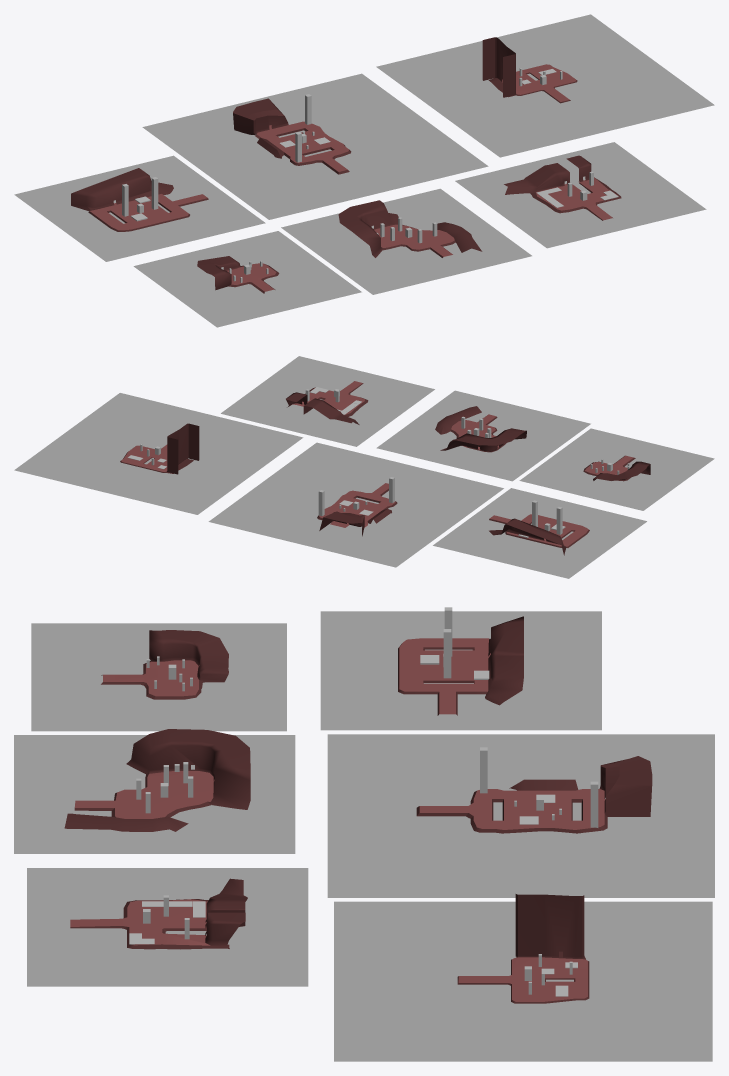
Rendered from NIVEL 1 ESCENARIOS.fbx.
The picture shows the model from 3 angles, top to bottom: view 1: azimuth 30°, elevation 25°; view 2: azimuth 150°, elevation 25°; view 3: azimuth 270°, elevation 25°; orthographic projection. The views are drawn at different scales.
Visible parts, largest first — view 1: Lago5, Lago4, Lago2, Lago1, Lago, Walls (×6), Lago3, Floor (×6); view 2: Lago4, Lago5, Lago2, Lago3, Lago1, Lago, Walls (×6), Floor (×6); view 3: Lago4, Lago5, Lago2, Lago3, Floor (×6), Walls (×6), Lago, Lago1.
Boxes of the visible parts, x1,y1,x2,y2 form: Lago5: (376,14,714,157); Lago4: (142,73,488,219); Lago2: (455,142,706,248); Lago1: (281,188,531,294); Lago: (133,231,361,327); Walls (×6): (71,37,591,290); Lago3: (14,155,265,261); Floor (×6): (88,64,621,293); Lago4: (208,442,503,567); Lago5: (14,393,303,514); Lago2: (221,356,434,446); Lago3: (433,488,646,578); Lago1: (376,390,590,481); Lago: (519,428,714,510); Walls (×6): (166,392,650,555); Floor (×6): (120,381,635,547); Lago4: (327,734,714,897); Lago5: (334,901,712,1061); Lago2: (27,868,308,986); Lago3: (320,611,601,730); Floor (×6): (70,638,607,1003); Walls (×6): (64,616,652,959); Lago: (31,623,286,731); Lago1: (14,735,295,853).
Bounding box in the file's own units: 511 × 43.07 × 332.
